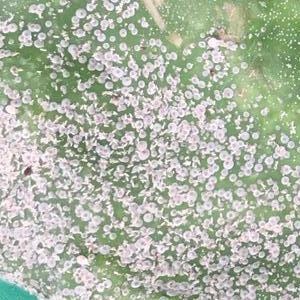Femea: (69, 6, 107, 40), (123, 203, 163, 233), (217, 129, 253, 159), (115, 111, 156, 137), (142, 36, 172, 70), (229, 227, 260, 259), (226, 195, 259, 225), (256, 178, 284, 211), (71, 202, 101, 232), (162, 181, 196, 207), (263, 137, 293, 165), (197, 175, 218, 214), (208, 35, 237, 63), (165, 121, 197, 146), (158, 153, 186, 181), (261, 212, 299, 232), (117, 86, 147, 111), (146, 81, 177, 105), (111, 58, 138, 85), (113, 240, 141, 266), (142, 62, 178, 82), (145, 233, 177, 255), (90, 44, 118, 69), (188, 155, 219, 177), (18, 23, 46, 47), (192, 95, 218, 119), (233, 260, 260, 283), (195, 249, 222, 272), (147, 258, 177, 278), (182, 225, 209, 247), (68, 42, 91, 66), (183, 73, 205, 98), (129, 140, 154, 161), (192, 138, 222, 155), (165, 99, 189, 120), (166, 208, 190, 229), (70, 265, 96, 284), (202, 115, 224, 137), (96, 68, 117, 91), (196, 50, 217, 73), (264, 240, 282, 266), (278, 162, 299, 183), (51, 98, 74, 117), (239, 157, 261, 176), (102, 0, 130, 13), (213, 271, 232, 290), (237, 284, 261, 299), (120, 1, 139, 19), (280, 246, 299, 263), (197, 275, 216, 292), (119, 41, 139, 55), (117, 24, 137, 36), (25, 1, 44, 13), (282, 233, 297, 248), (96, 278, 111, 291)
Macho: (108, 137, 118, 144), (78, 103, 87, 110), (124, 188, 130, 198), (83, 112, 91, 119), (51, 33, 60, 39), (80, 184, 86, 193), (43, 93, 50, 100), (122, 171, 129, 178), (145, 159, 152, 166), (106, 167, 113, 174), (38, 47, 46, 51), (129, 175, 137, 179)
